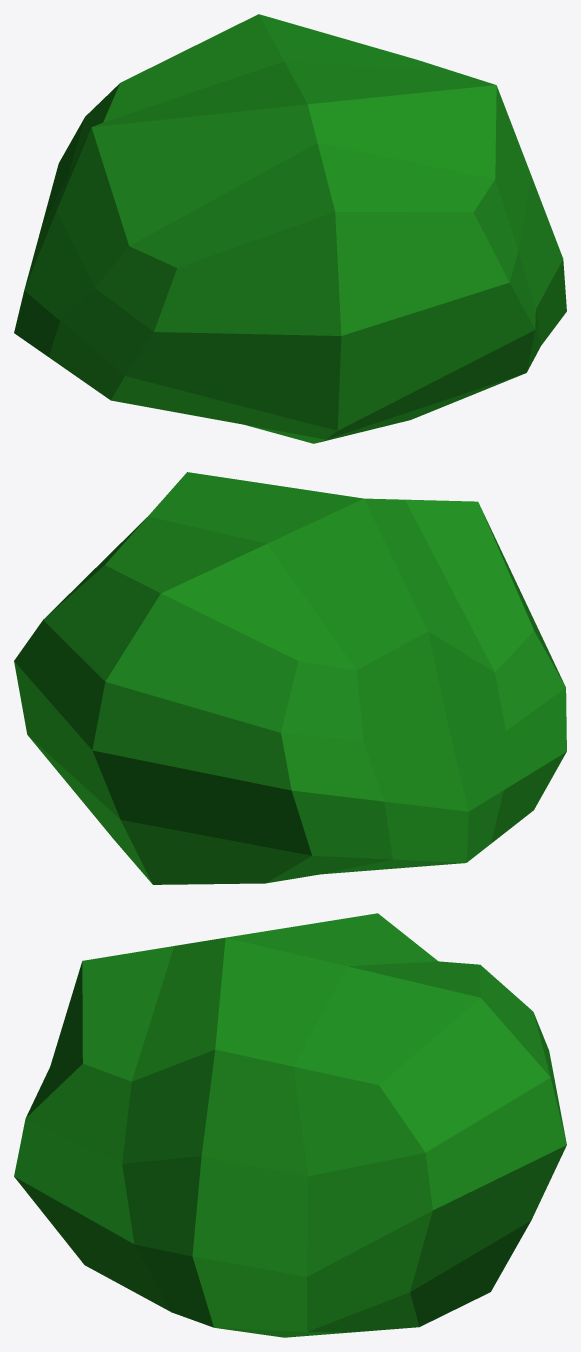
Rendered from BUSH03.fbx.
3 views of the same model, one above another, from view 1: azimuth 30°, elevation 25°; view 2: azimuth 150°, elevation 25°; view 3: azimuth 270°, elevation 25° (orthographic).
Parts seen in each view (by area): view 1: ruler_flower4; view 2: ruler_flower4; view 3: ruler_flower4.
Boxes of the visible parts, x1,y1,x2,y2 form: ruler_flower4: (14, 14, 566, 443); ruler_flower4: (14, 472, 566, 884); ruler_flower4: (14, 913, 566, 1337).
Bounding box in the file's own units: 275 × 189 × 290.
